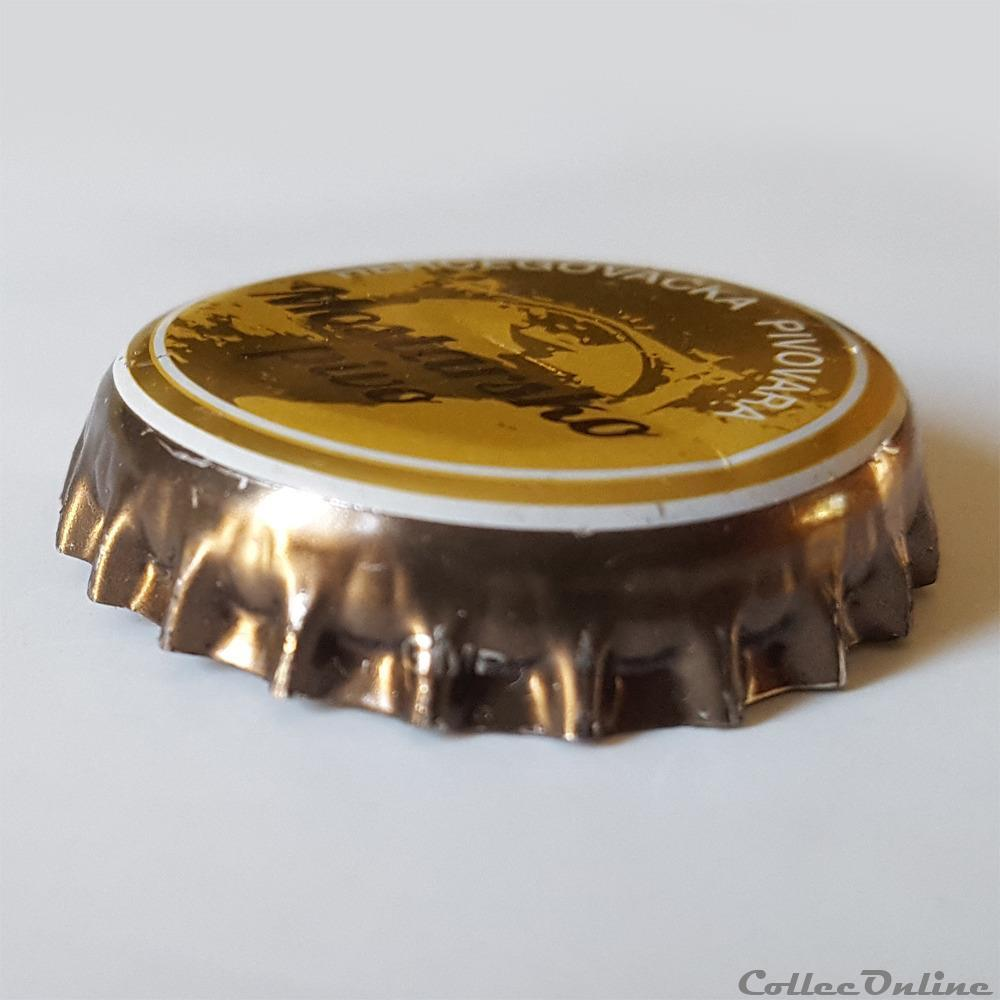metal: (57, 260, 939, 741)
